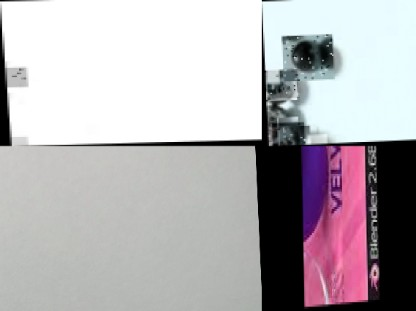ironball: (287, 39, 318, 74), (264, 68, 297, 98), (270, 121, 303, 146), (266, 99, 303, 119), (316, 34, 334, 69), (8, 135, 25, 146)
